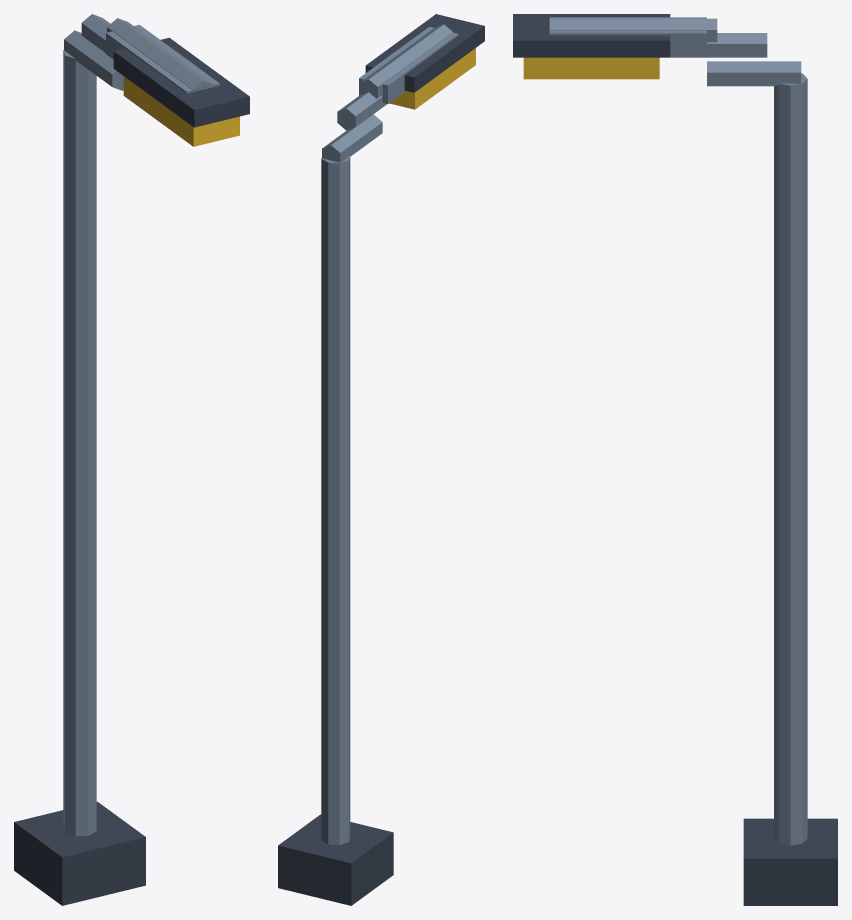
The model's file is cittaLampione.glb.
3 views of the same model, side by side, from view 1: azimuth 30°, elevation 25°; view 2: azimuth 150°, elevation 25°; view 3: azimuth 270°, elevation 25° (orthographic). The views are drawn at different scales.
Parts seen in each view (by area): view 1: cittaLampione_steel, cittaLampione_steelDark, cittaLampione_yellow; view 2: cittaLampione_steel, cittaLampione_steelDark, cittaLampione_yellow; view 3: cittaLampione_steel, cittaLampione_steelDark, cittaLampione_yellow.
Boxes of the visible parts, left/top/right/bottom form: cittaLampione_steel: left=63, top=14, right=219, bottom=836; cittaLampione_steelDark: left=14, top=37, right=249, bottom=905; cittaLampione_yellow: left=123, top=76, right=239, bottom=146; cittaLampione_steel: left=321, top=24, right=458, bottom=844; cittaLampione_steelDark: left=278, top=14, right=484, bottom=905; cittaLampione_yellow: left=389, top=48, right=475, bottom=109; cittaLampione_steel: left=549, top=17, right=807, bottom=845; cittaLampione_steelDark: left=513, top=14, right=837, bottom=905; cittaLampione_yellow: left=523, top=57, right=659, bottom=79.
Size of the model in its own units: 0.9 by 9.13 by 3.1.
